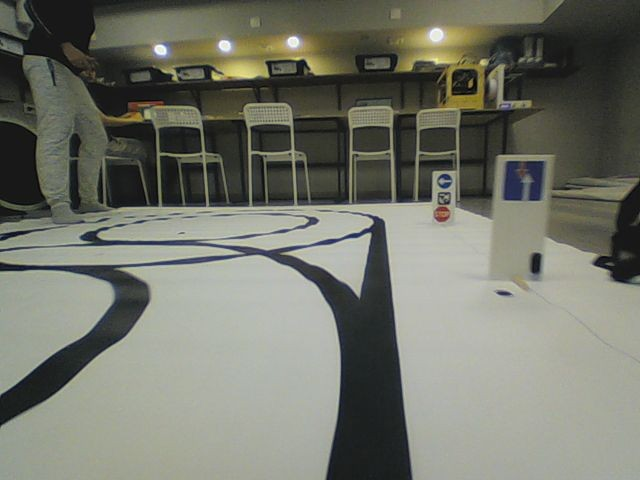Stop: (433, 206, 450, 222)
priority_movement: (502, 158, 546, 204)
